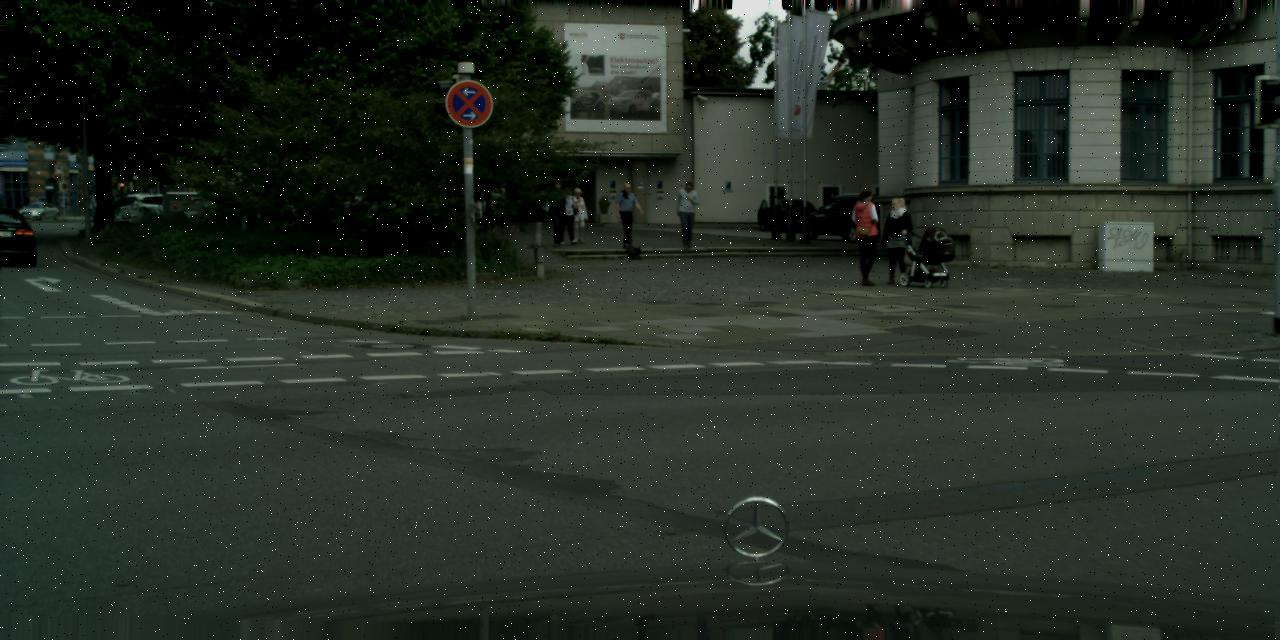ped: (847, 189, 885, 284), (880, 197, 915, 283), (614, 182, 640, 248), (674, 181, 700, 246), (544, 182, 570, 244), (555, 186, 578, 243), (566, 187, 588, 242)
